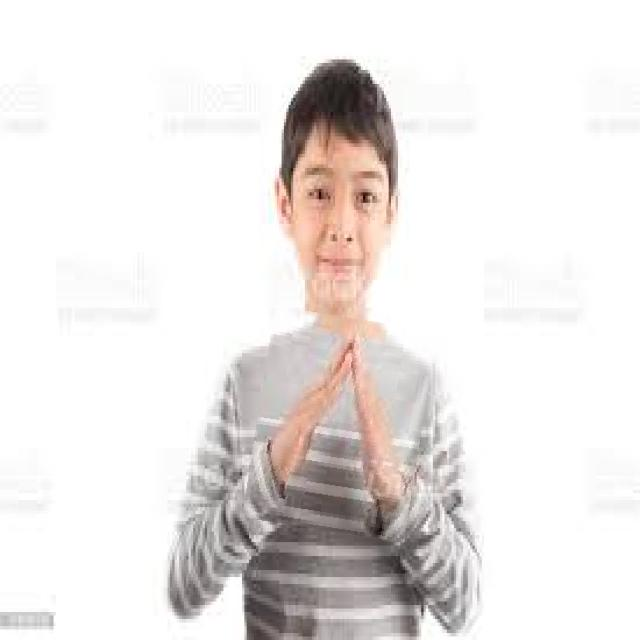House: (250, 312, 430, 538)
